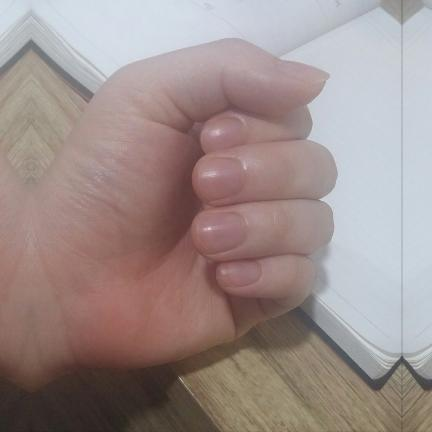Nail: (193, 213, 244, 254), (195, 158, 242, 201), (199, 115, 243, 153), (218, 260, 263, 287)
